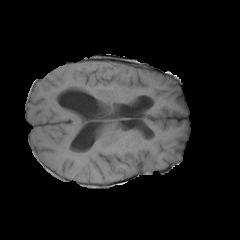glioma: (49, 66, 156, 108)
